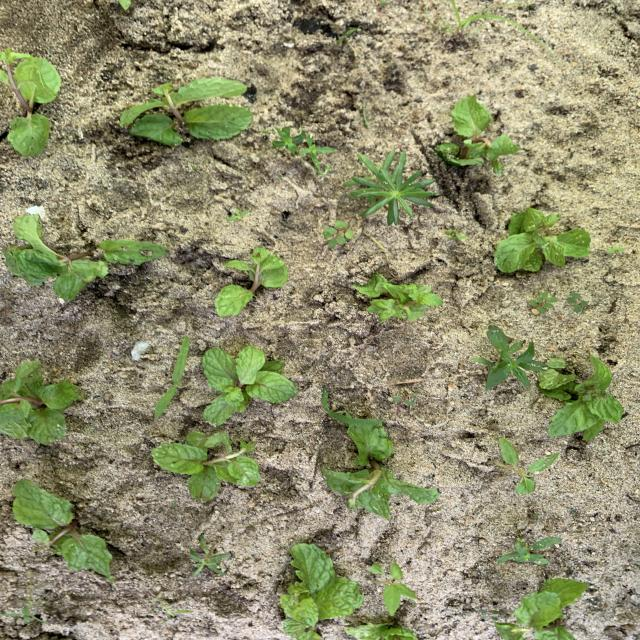crop: (4, 216, 167, 300), (322, 423, 439, 519), (13, 481, 113, 580), (122, 78, 251, 144), (281, 544, 363, 639), (203, 346, 297, 425), (152, 432, 259, 499), (539, 356, 623, 439), (1, 360, 82, 443), (1, 49, 60, 155), (438, 96, 519, 172), (495, 208, 590, 271), (495, 579, 587, 639), (215, 248, 287, 315), (354, 274, 441, 322), (346, 623, 418, 640)
weed: (347, 151, 435, 223), (472, 328, 539, 390), (491, 439, 559, 494), (154, 338, 190, 418), (370, 563, 417, 616), (321, 387, 382, 425), (498, 537, 562, 565), (191, 538, 230, 576), (153, 594, 191, 618), (324, 220, 354, 246), (273, 128, 304, 152), (529, 292, 557, 312), (567, 292, 587, 311), (393, 392, 418, 406), (336, 29, 357, 45), (479, 603, 499, 617), (229, 209, 248, 220), (444, 230, 466, 239), (607, 247, 624, 252)
